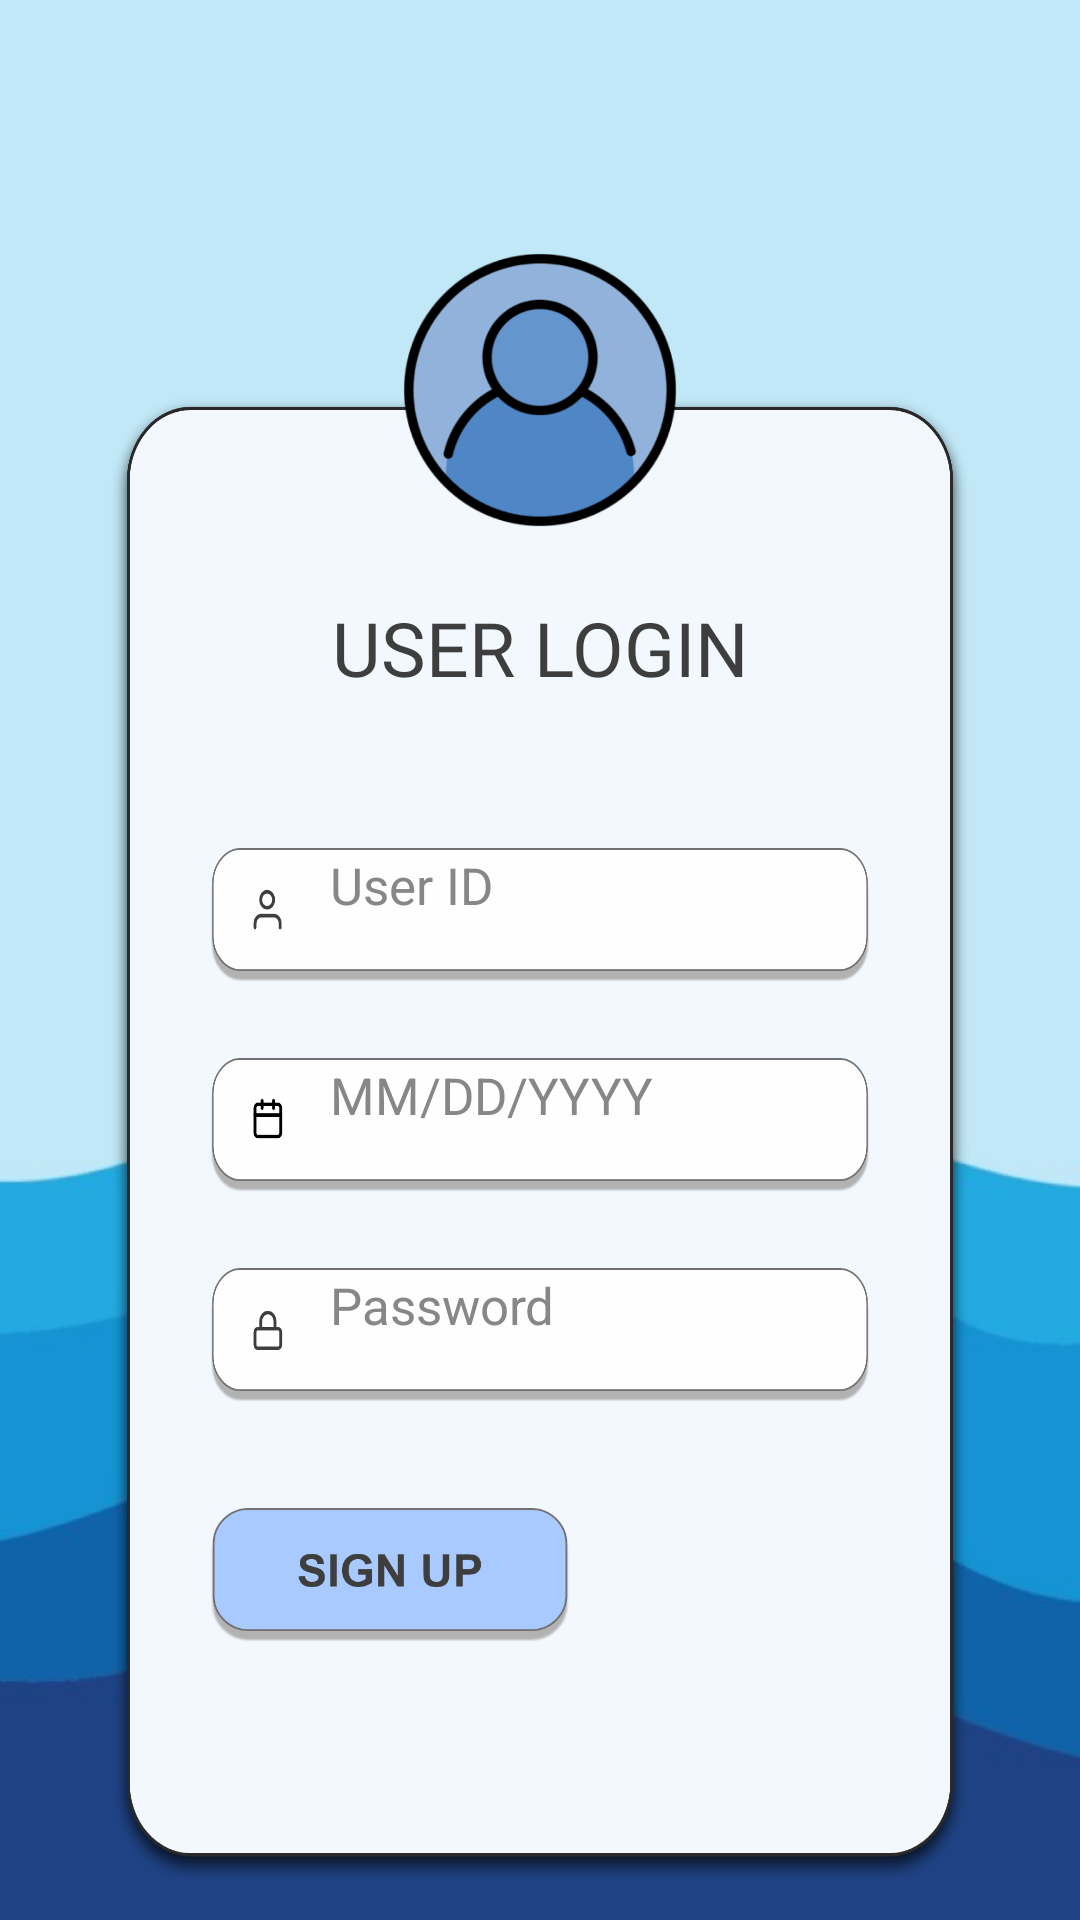

Where to tap for icons on this 1080 × 1920 app screen, as [x,y]:
imageavatar: [540,390]
